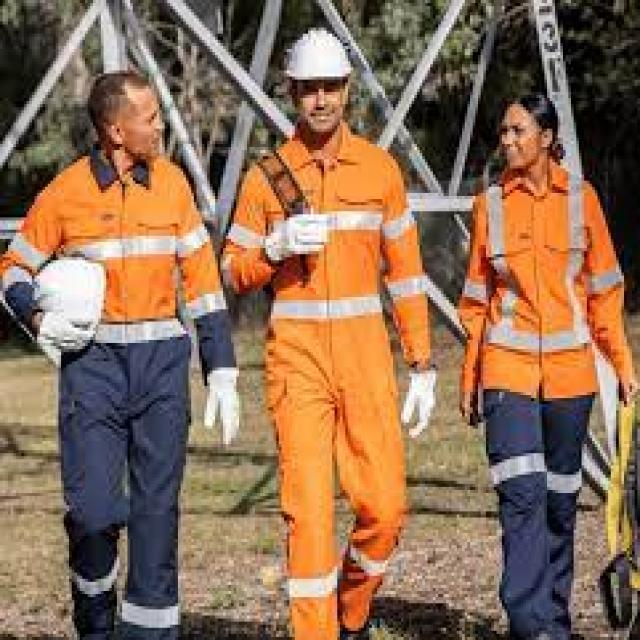vest: (5, 154, 238, 640), (220, 129, 430, 636), (459, 165, 632, 640)
